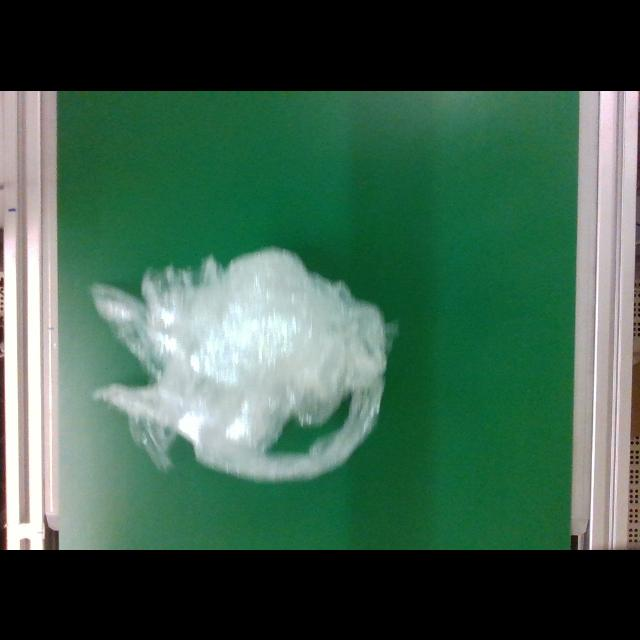scrap_plastic: (92, 232, 400, 478)
